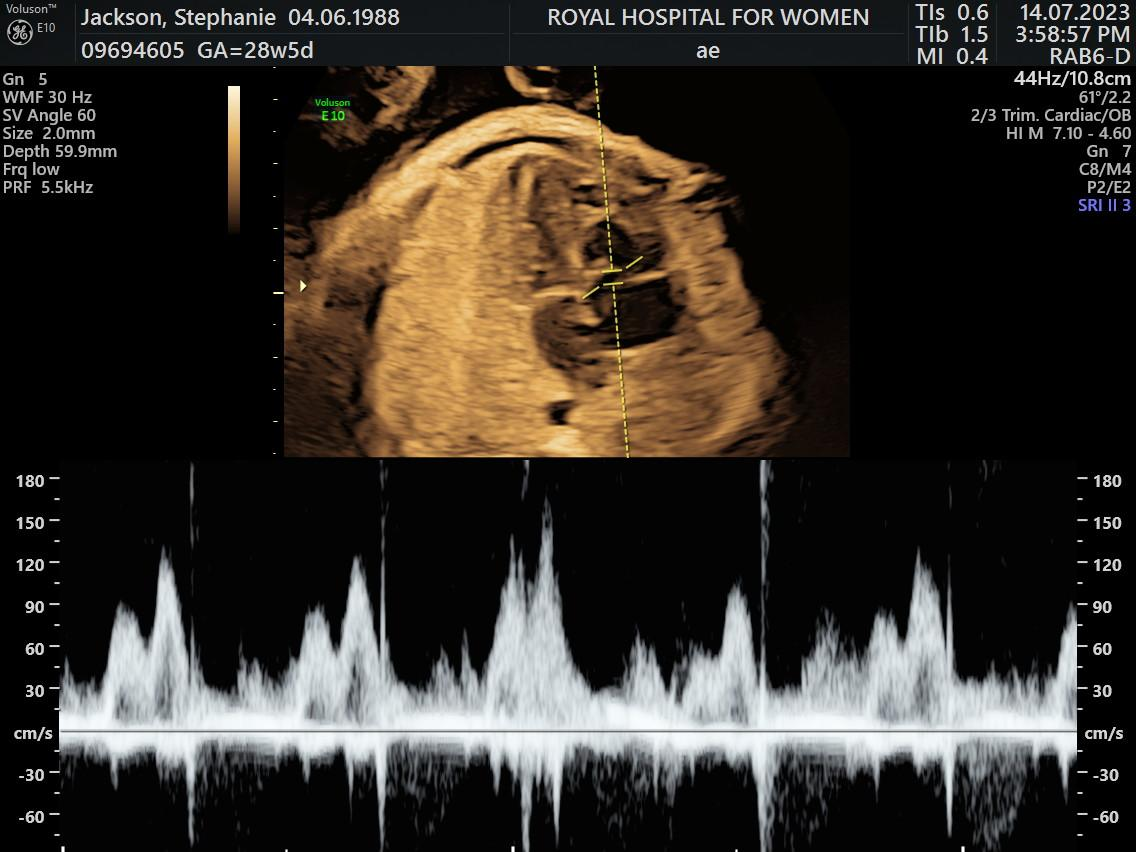Ultrasound-Waves: (59, 460, 1075, 850)
